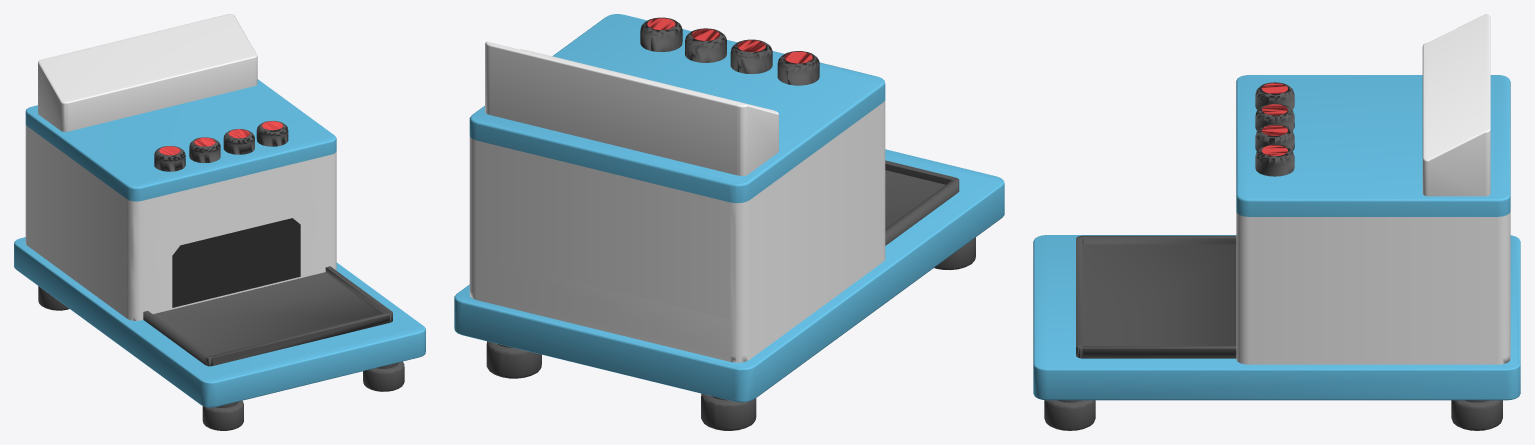
The model's file is hanbaoji.FBX.
3 renders of one model, left to right at view 1: azimuth 30°, elevation 25°; view 2: azimuth 150°, elevation 25°; view 3: azimuth 270°, elevation 25°, orthographic. The views are drawn at different scales.
Visible parts, largest first — view 1: hanbaoji; view 2: hanbaoji; view 3: hanbaoji.
Boxes of the visible parts, x1,y1,x2,y2 form: hanbaoji: [14, 14, 425, 430]; hanbaoji: [454, 14, 1004, 430]; hanbaoji: [1033, 14, 1520, 430].
Bounding box in the file's own units: 94.03 × 97.79 × 143.
